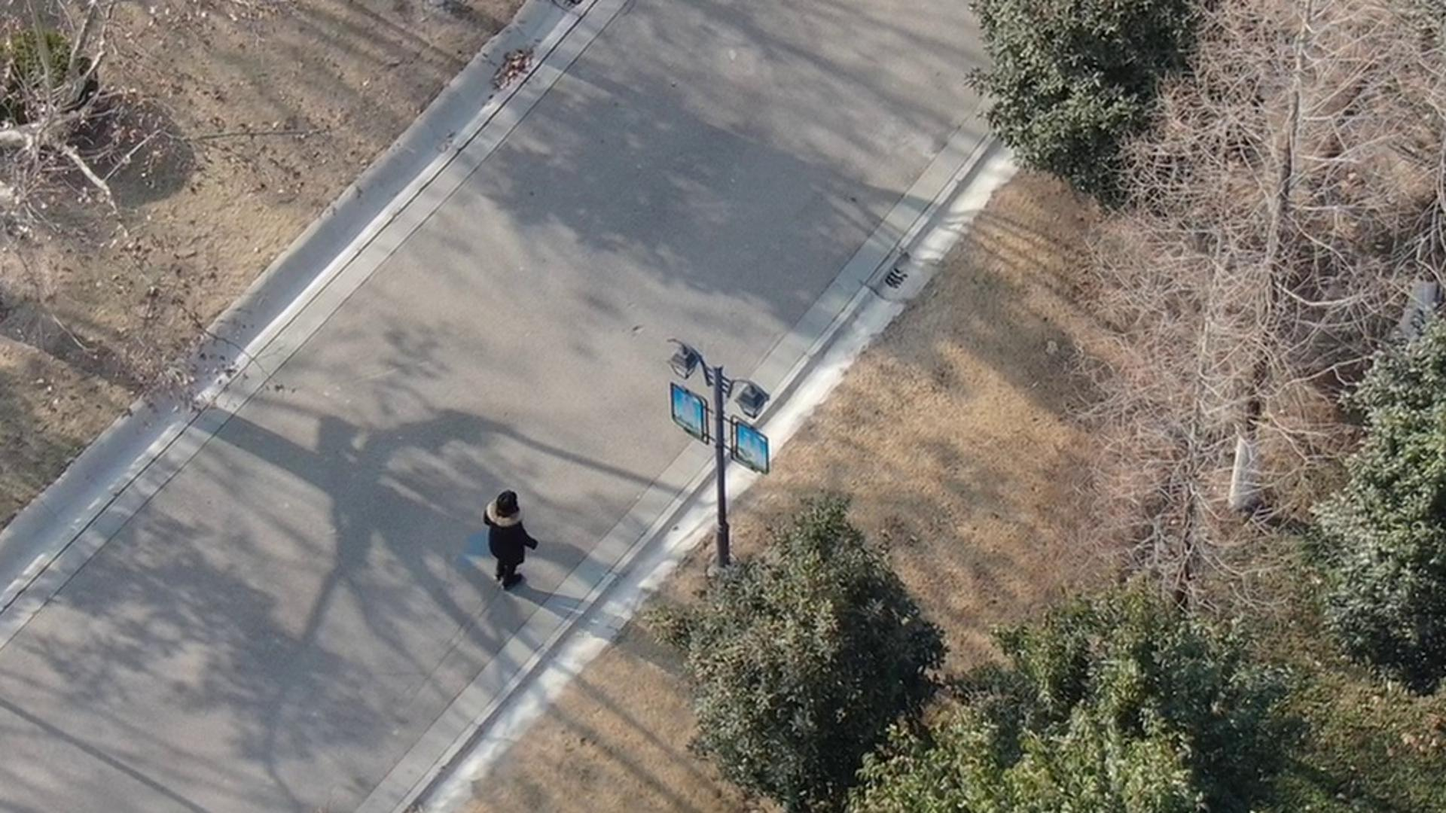human: (474, 460, 537, 569)
